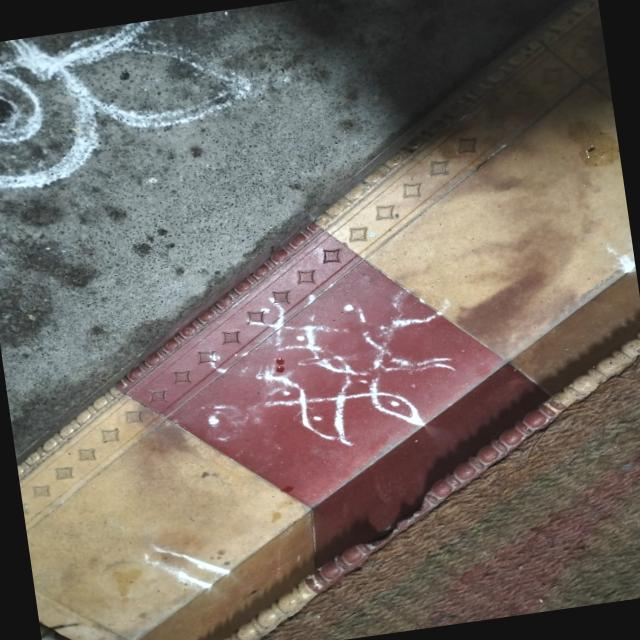rangoli: (144, 258, 482, 480)
